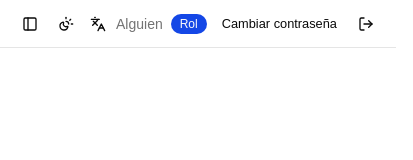
Scenario: Topbar — logout-all › no ofrece «Cerrar todas las sesiones» a ANALYTICS
Expected: the text "Alguien" is shown, [116, 16, 163, 32]
Click the button named "Sesión" at (366, 24), box [352, 10, 380, 38]
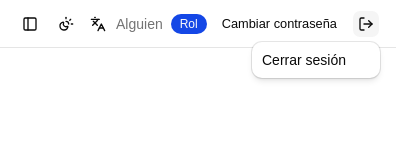
Result: the menu item "Cerrar sesión" is shown at [262, 52, 346, 68]
